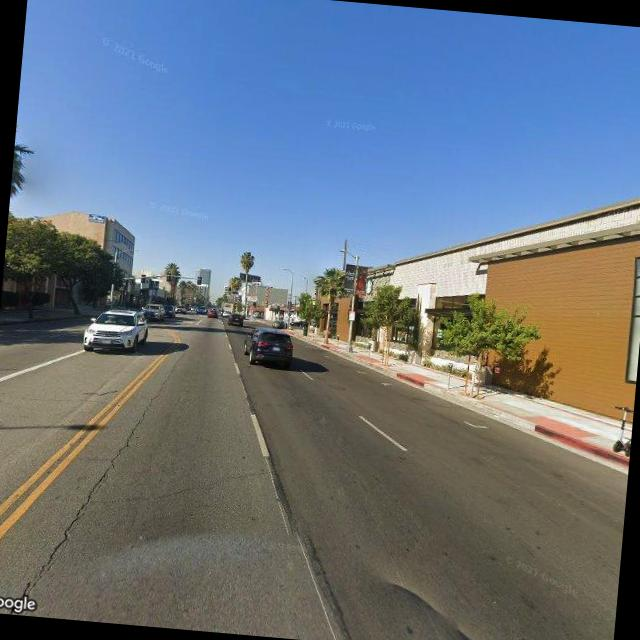crack: (12, 355, 169, 604), (91, 452, 271, 513)
